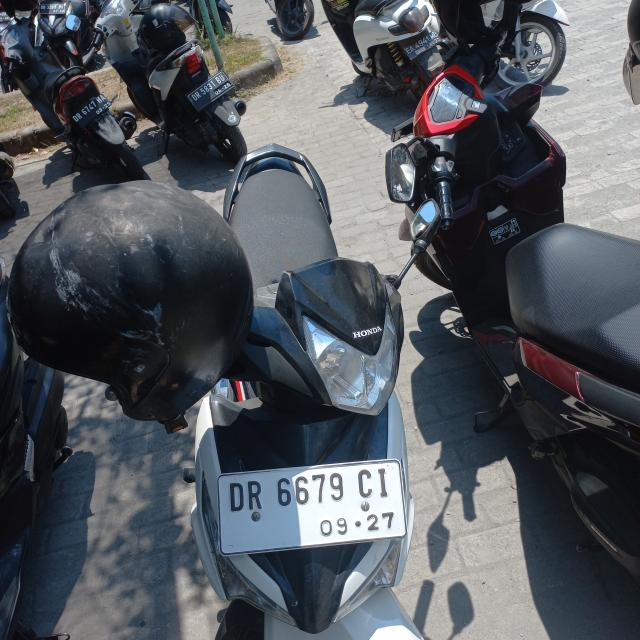plate: (217, 461, 414, 554), (188, 71, 234, 109), (70, 92, 113, 128), (403, 30, 442, 60)
